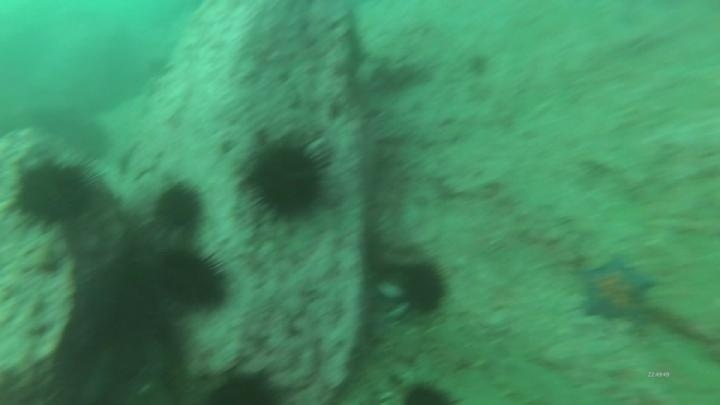echinus: (242, 134, 333, 224), (11, 155, 99, 231), (155, 245, 231, 313), (199, 364, 290, 404), (398, 260, 450, 317), (152, 180, 206, 234), (399, 379, 458, 405)
starfish: (575, 255, 660, 325)
